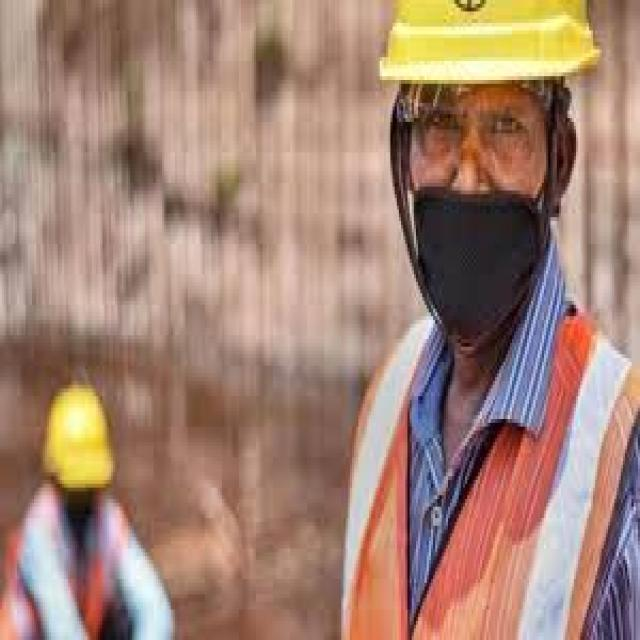Reflective-Jacket: (330, 308, 640, 636), (4, 495, 190, 640)
Safety-Helmet: (373, 0, 606, 103), (28, 362, 132, 518)
